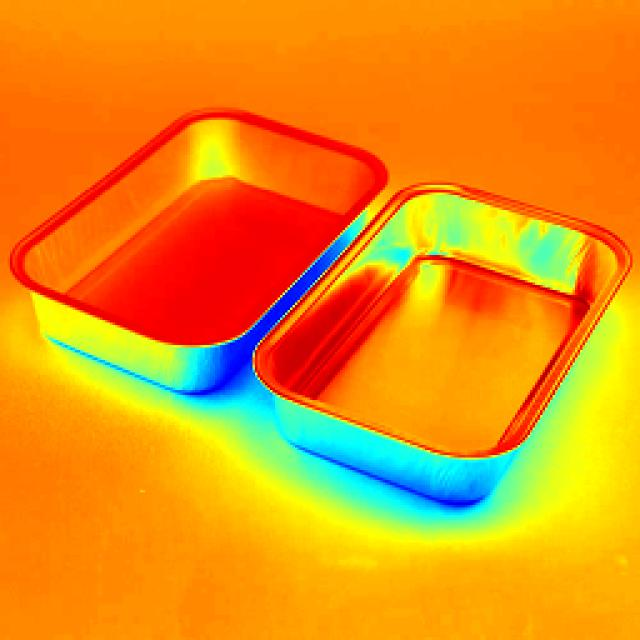Aluminium Food Cans: (289, 187, 564, 487), (36, 106, 338, 345)
